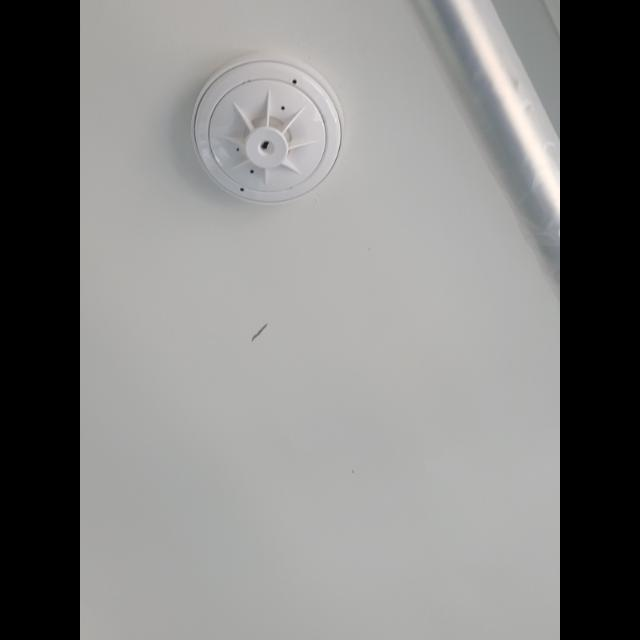Smoke-Detector: (191, 58, 345, 205)
